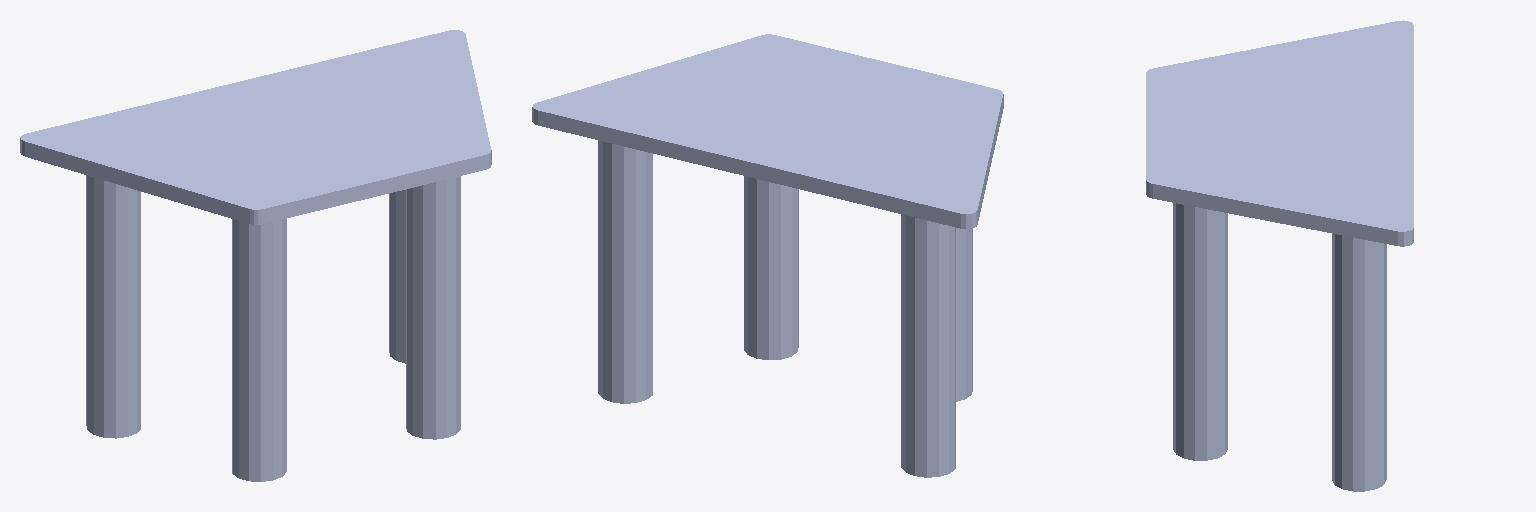
robot.urdf — w311_desk:
<?xml version="1.0" encoding="utf-8"?>
<!-- This URDF was automatically created by SolidWorks to URDF Exporter! Originally created by [author] ([email redacted]) 
     Commit Version: 1.6.0-1-g15f4949  Build Version: 1.6.7594.29634
     For more information, please see http://wiki.ros.org/sw_urdf_exporter -->
<robot
  name="w311_desk">
  <link
    name="base_link">
    <inertial>
      <origin
        xyz="0.0904155526040127 0.0776051816330809 0.189525767443854"
        rpy="0 0 0" />
      <mass
        value="3.43489149705641" />
      <inertia
        ixx="0.0474290129999612"
        ixy="1.98497238479631E-19"
        ixz="5.40596487837742E-18"
        iyy="0.0798598162276557"
        iyz="-0.00147530372222695"
        izz="0.0685211508707276" />
    </inertial>
    <visual>
      <origin
        xyz="0 0 0"
        rpy="0 0 0" />
      <geometry>
        <mesh
          filename="package://w311_desk/meshes/base_link.STL" />
      </geometry>
      <material
        name="">
        <color
          rgba="0.792156862745098 0.819607843137255 0.933333333333333 1" />
      </material>
    </visual>
    <collision>
      <origin
        xyz="0 0 0"
        rpy="0 0 0" />
      <geometry>
        <mesh
          filename="package://w311_desk/meshes/base_link.STL" />
      </geometry>
    </collision>
  </link>
</robot>

--- Facts derived from the render (not from the file) ---
Views: 3 orthographic renders of the robot side by side, from view 1: azimuth 30°, elevation 25°; view 2: azimuth 150°, elevation 25°; view 3: azimuth 270°, elevation 25°.
Model w311_desk with 1 links and 0 joints (none), rooted at base_link, posed every joint at zero.
Visible links, largest first — view 1: base_link; view 2: base_link; view 3: base_link.
Boxes of the visible links, box(x1,y1,x2,y2) form: base_link: box(20, 30, 491, 481); base_link: box(532, 34, 1003, 477); base_link: box(1146, 20, 1413, 491).
Size in the robot's own frame: 0.4588 by 0.2454 by 0.285 metres.
Meshes: 1 distinct files referenced, 1 mesh visuals loaded (1 binary STL).